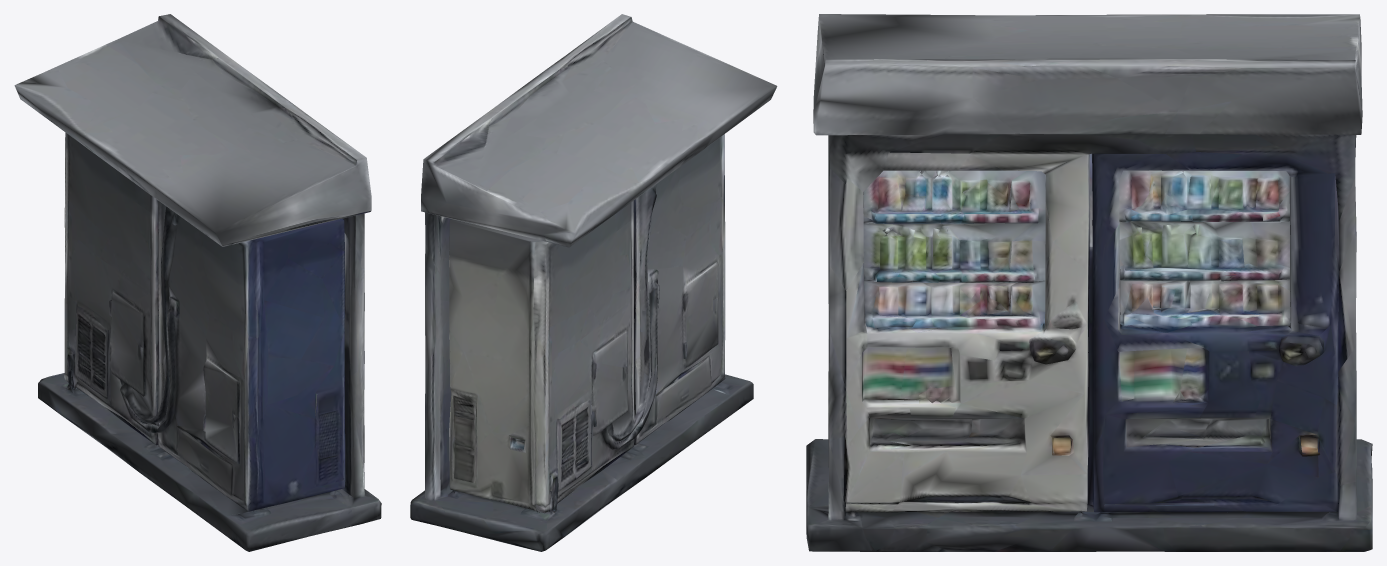
The model's file is au_env_vending_machine.glb.
3 renders of one model, left to right at view 1: azimuth 30°, elevation 25°; view 2: azimuth 150°, elevation 25°; view 3: azimuth 270°, elevation 25°, orthographic. The views are drawn at different scales.
Visible parts, largest first — view 1: tripo_node_15a447a1-dae7-461e-8b30-22677891fe19; view 2: tripo_node_15a447a1-dae7-461e-8b30-22677891fe19; view 3: tripo_node_15a447a1-dae7-461e-8b30-22677891fe19.
Part boxes in pixels (x1,y1,x2,y2): tripo_node_15a447a1-dae7-461e-8b30-22677891fe19: [14, 14, 381, 551]; tripo_node_15a447a1-dae7-461e-8b30-22677891fe19: [410, 14, 777, 551]; tripo_node_15a447a1-dae7-461e-8b30-22677891fe19: [806, 14, 1372, 551].
Bounding box in the file's own units: 0.4347 × 0.9201 × 0.9803.
1 material, 1 textured.
